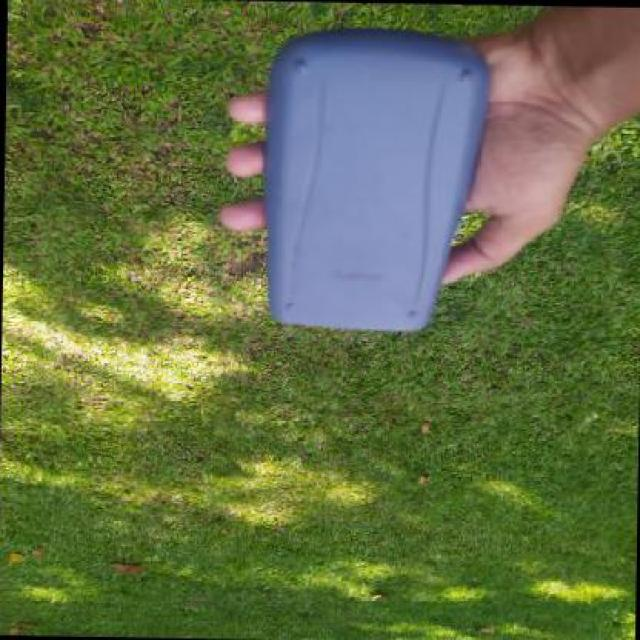Calculator: (254, 17, 492, 346)
